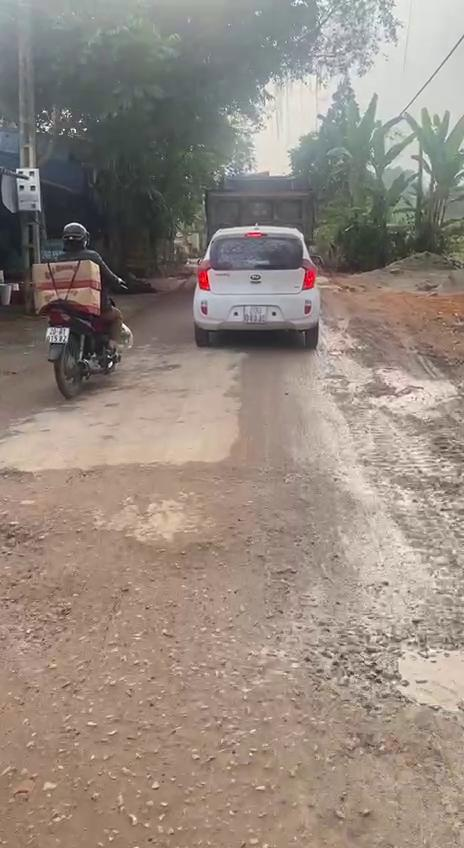pothole: (339, 605, 464, 718)
